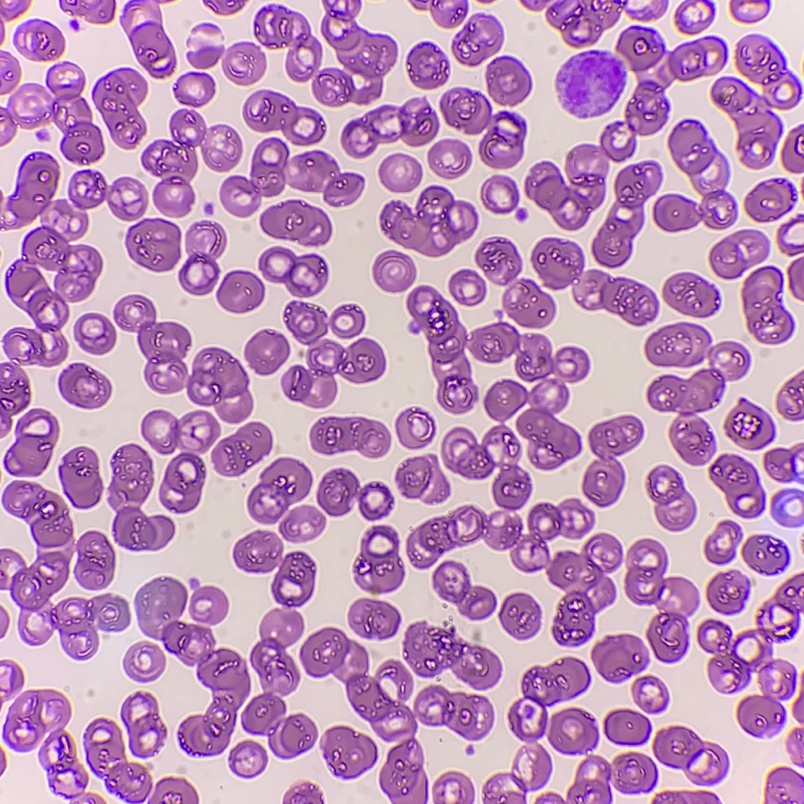RBC: (407, 426, 621, 645), (0, 155, 147, 435), (525, 28, 725, 229), (407, 286, 587, 469), (0, 481, 129, 657), (300, 628, 492, 738), (136, 578, 250, 754), (114, 295, 252, 422), (698, 573, 803, 733), (254, 0, 396, 106), (645, 323, 746, 464), (712, 38, 798, 168), (241, 610, 316, 756), (221, 139, 363, 216), (532, 238, 657, 325), (282, 301, 384, 407), (142, 111, 241, 216), (6, 690, 87, 801), (653, 120, 733, 231), (625, 539, 696, 661), (141, 410, 219, 512), (592, 162, 660, 267), (476, 238, 553, 327), (380, 186, 476, 256), (110, 444, 174, 549), (440, 90, 525, 168), (509, 657, 588, 740), (36, 68, 103, 164), (403, 622, 500, 687), (234, 531, 315, 606), (85, 719, 151, 802), (342, 100, 437, 157), (583, 416, 641, 505), (568, 752, 655, 803), (243, 91, 325, 145), (248, 458, 311, 523), (93, 71, 146, 148), (123, 2, 175, 78), (653, 726, 724, 781), (317, 469, 392, 519), (742, 267, 790, 343), (433, 561, 495, 618), (5, 409, 58, 475), (547, 0, 621, 46), (709, 454, 763, 517), (259, 247, 327, 297), (179, 221, 225, 294), (354, 526, 403, 593), (311, 417, 390, 457), (261, 200, 331, 245), (212, 422, 271, 475), (647, 466, 694, 530), (380, 739, 426, 803), (126, 219, 180, 271), (121, 694, 166, 756), (710, 230, 766, 278), (324, 726, 376, 776), (60, 447, 102, 507), (528, 499, 592, 538), (396, 455, 449, 502), (452, 16, 502, 65), (592, 634, 645, 680), (663, 273, 716, 317), (725, 401, 773, 449), (59, 363, 110, 407), (75, 531, 114, 588), (549, 708, 597, 752), (486, 57, 530, 104), (745, 179, 792, 221), (349, 599, 399, 637), (245, 330, 288, 374), (217, 271, 263, 312), (406, 46, 448, 88), (500, 593, 539, 638), (223, 43, 265, 84), (373, 251, 415, 291), (742, 535, 786, 573), (75, 313, 115, 354), (707, 571, 746, 613), (428, 140, 470, 178), (280, 506, 324, 541), (124, 642, 164, 680), (604, 709, 648, 743), (764, 443, 803, 481), (379, 155, 420, 191), (412, 0, 466, 27), (512, 749, 550, 787), (396, 411, 434, 448), (190, 586, 227, 623), (705, 521, 737, 563), (481, 176, 517, 213), (229, 741, 266, 776), (175, 73, 214, 106), (765, 768, 801, 803), (449, 270, 484, 305), (149, 778, 198, 803), (675, 0, 711, 33), (330, 304, 364, 337), (633, 676, 665, 711), (777, 377, 803, 419), (32, 25, 64, 59), (69, 0, 115, 22), (782, 125, 803, 172), (484, 779, 522, 803), (730, 0, 766, 22), (283, 783, 322, 803), (653, 791, 717, 803), (0, 108, 32, 128), (191, 47, 220, 68), (789, 258, 803, 299), (204, 0, 244, 14), (788, 729, 803, 762), (457, 777, 473, 803), (10, 668, 23, 691), (649, 0, 664, 18), (433, 781, 444, 803), (794, 696, 803, 722), (0, 609, 8, 636), (0, 80, 13, 93), (9, 60, 19, 75), (782, 244, 797, 254), (0, 7, 13, 18), (532, 0, 546, 9), (18, 0, 28, 9), (0, 752, 5, 770), (0, 135, 5, 144), (94, 798, 103, 803)
